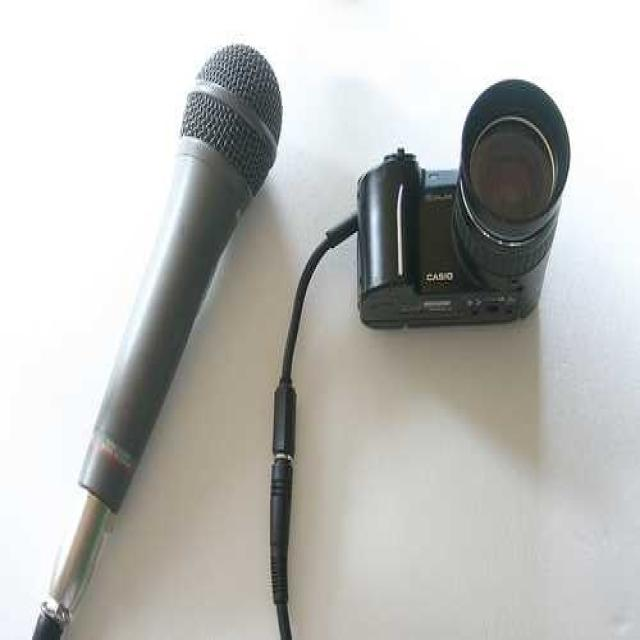microphone: (25, 44, 278, 629)
